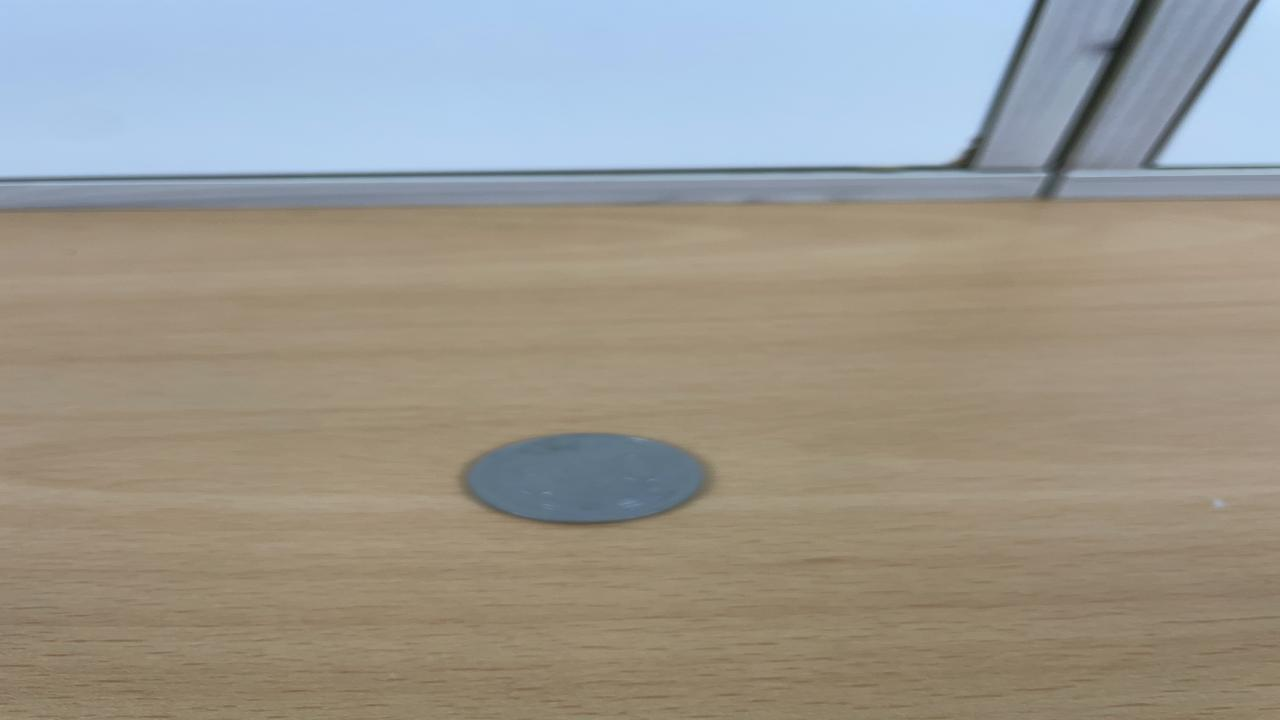coin: (459, 430, 711, 528)
